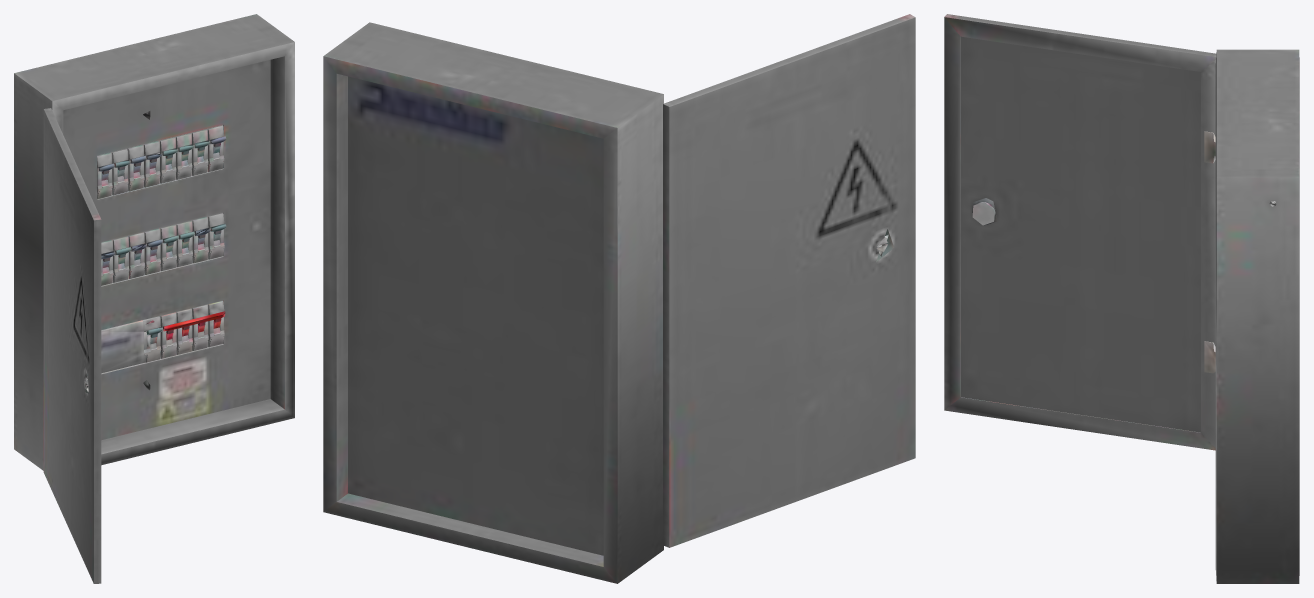
File: power_box_01.glb
3 views of the same model, side by side, from view 1: azimuth 30°, elevation 25°; view 2: azimuth 150°, elevation 25°; view 3: azimuth 270°, elevation 25° (orthographic). The views are drawn at different scales.
Visible parts, largest first — view 1: power_box_01_box, power_box_01_door; view 2: power_box_01_box, power_box_01_door; view 3: power_box_01_door, power_box_01_box.
Boxes of the visible parts, x1,y1,x2,y2 form: power_box_01_box: [14, 14, 294, 470]; power_box_01_door: [43, 108, 101, 583]; power_box_01_box: [323, 22, 663, 583]; power_box_01_door: [663, 14, 915, 547]; power_box_01_door: [944, 14, 1216, 450]; power_box_01_box: [1215, 49, 1299, 583].
Bounding box in the file's own units: 0.4608 × 0.5031 × 0.399.
Materials: 1 (1 with a texture image).
